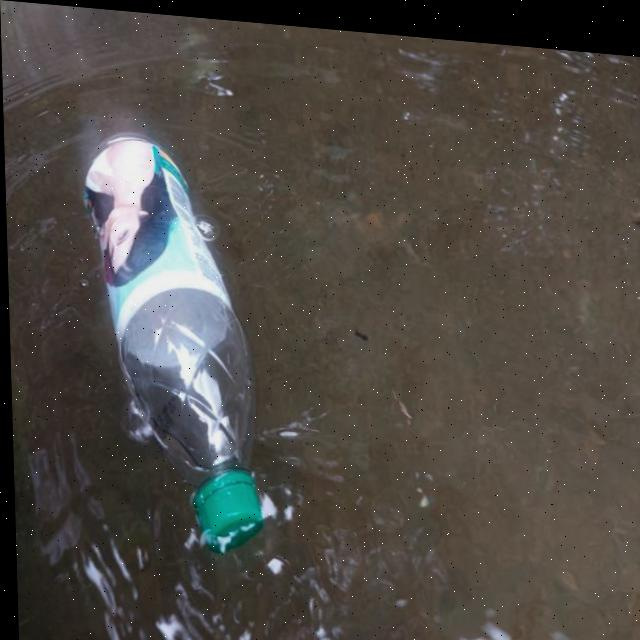waterbottle: (79, 103, 258, 561)
